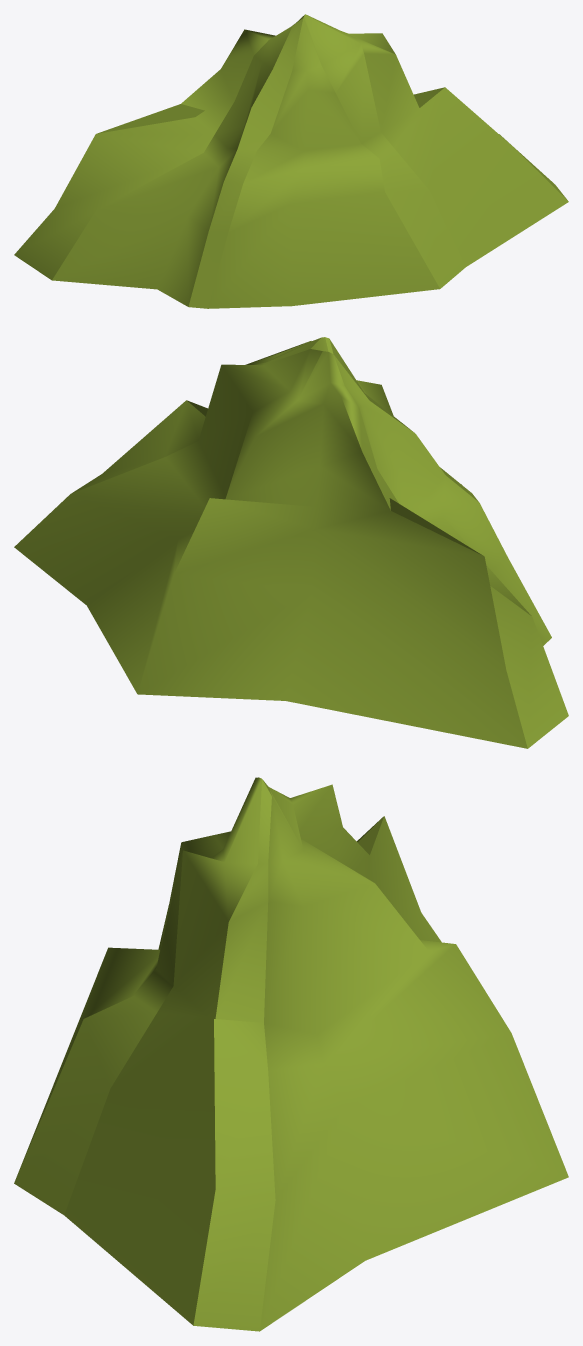
File: montagneVert2.fbx
3 renders of one model, top to bottom at view 1: azimuth 30°, elevation 25°; view 2: azimuth 150°, elevation 25°; view 3: azimuth 270°, elevation 25°, orthographic. The views are drawn at different scales.
Visible parts, largest first — view 1: montagneVert2; view 2: montagneVert2; view 3: montagneVert2.
Part boxes in pixels (bbox=[...]): montagneVert2: bbox=[14, 14, 568, 308]; montagneVert2: bbox=[14, 337, 568, 748]; montagneVert2: bbox=[14, 777, 568, 1331].
Size of the model in its own units: 7110 by 3286 by 4556.
